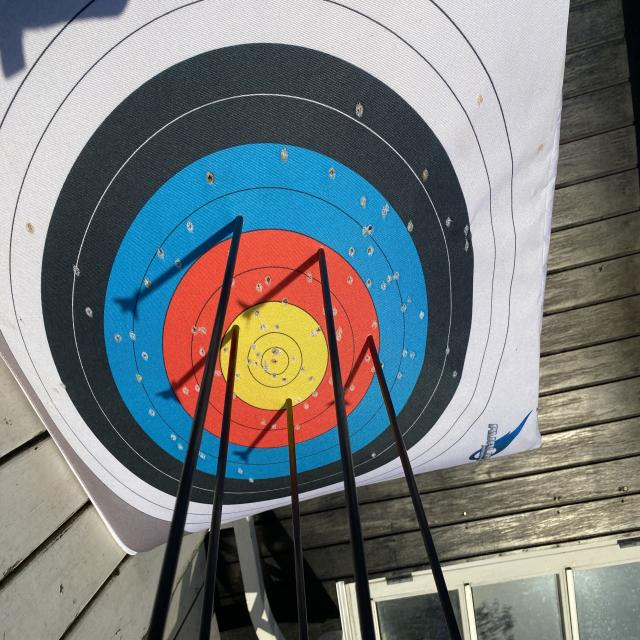Arrow_Blue: (231, 205, 254, 239)
Arrow_Red: (313, 237, 339, 271), (360, 325, 380, 358)
Arrow_Yellow: (279, 382, 297, 424), (229, 314, 244, 346)
